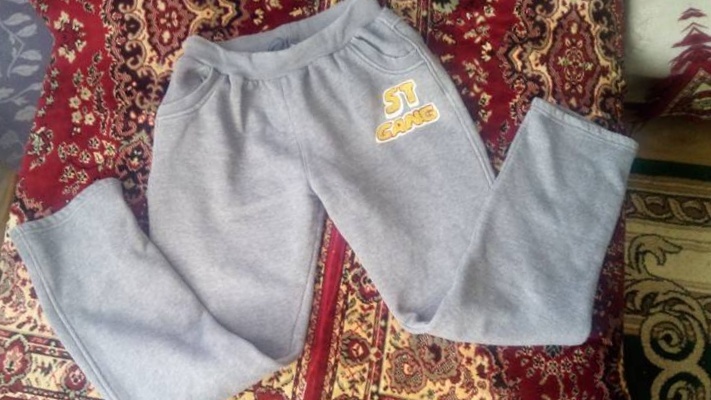Pants: (0, 0, 679, 400), (0, 0, 607, 28), (62, 379, 711, 400)
